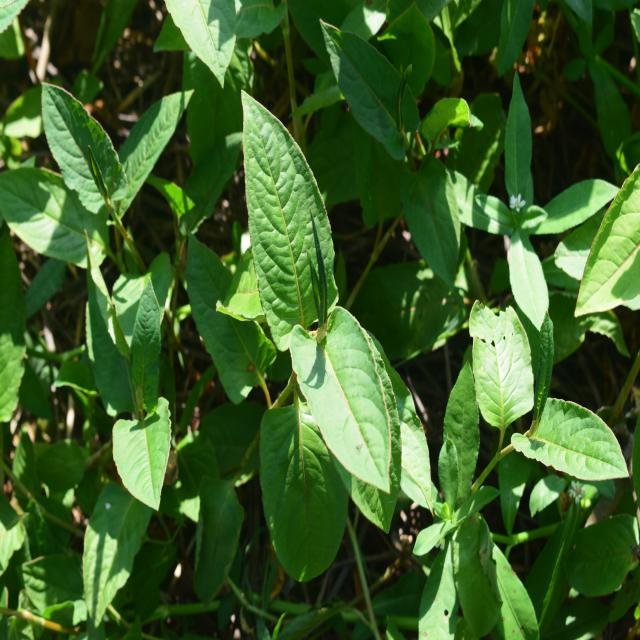Chinese_knotweed: (228, 92, 400, 556), (7, 55, 195, 254), (72, 252, 189, 529)
